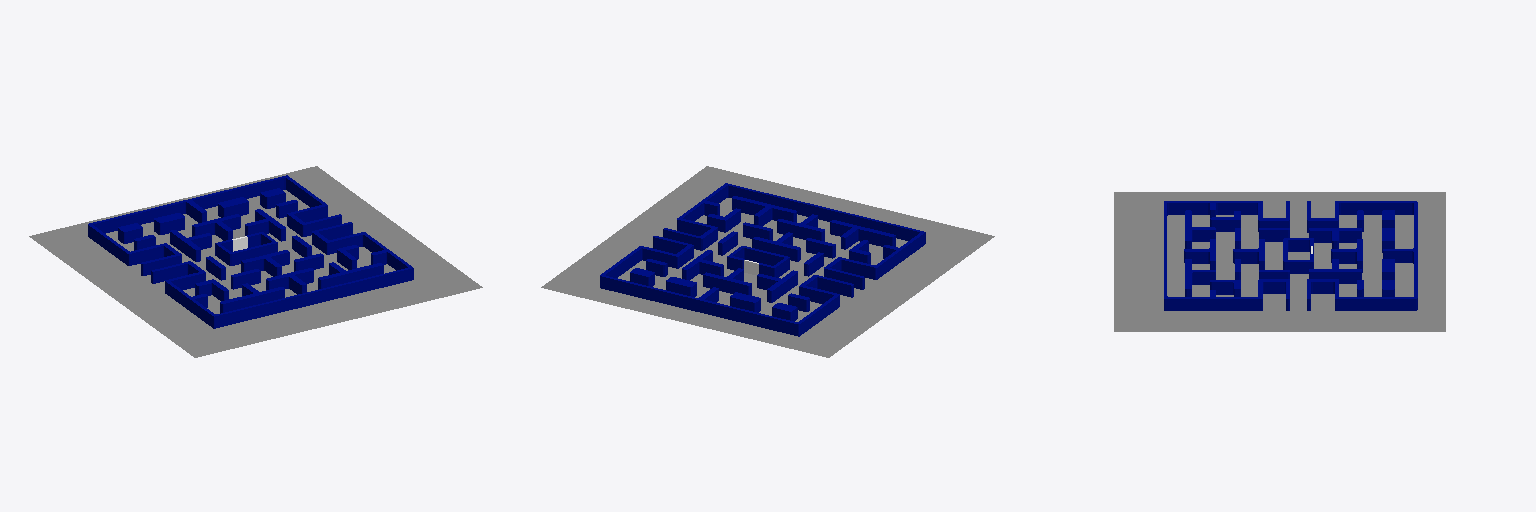
The model's file is MAZE.obj.
The picture shows the model from 3 angles: view 1: azimuth 30°, elevation 25°; view 2: azimuth 150°, elevation 25°; view 3: azimuth 270°, elevation 25°; orthographic projection.
Visible parts, largest first — view 1: maze; view 2: maze; view 3: maze.
Boxes of the visible parts, x1,y1,x2,y2 form: maze: [29, 166, 482, 357]; maze: [541, 166, 994, 357]; maze: [1114, 192, 1445, 331].
Size of the model in its own units: 5 by 0.2 by 5.